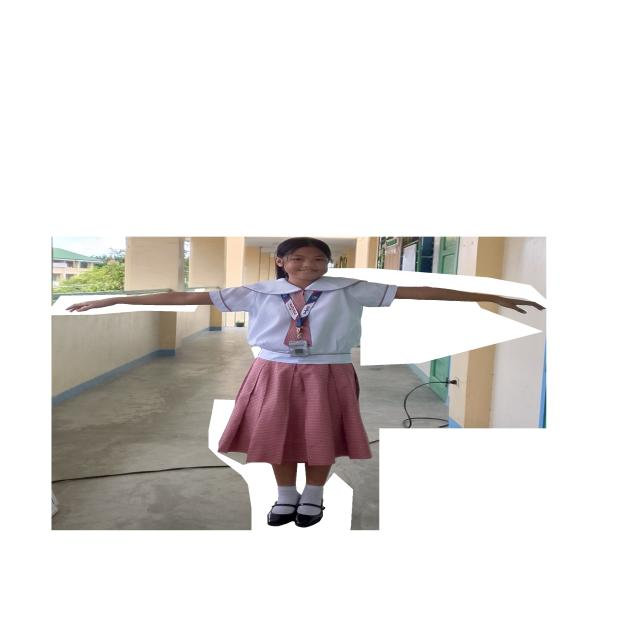id lace: (281, 291, 322, 333)
pologirl: (301, 276, 396, 364), (209, 279, 302, 363)
shoes: (267, 498, 323, 528), (302, 503, 324, 511)
skirt: (218, 357, 371, 465)
